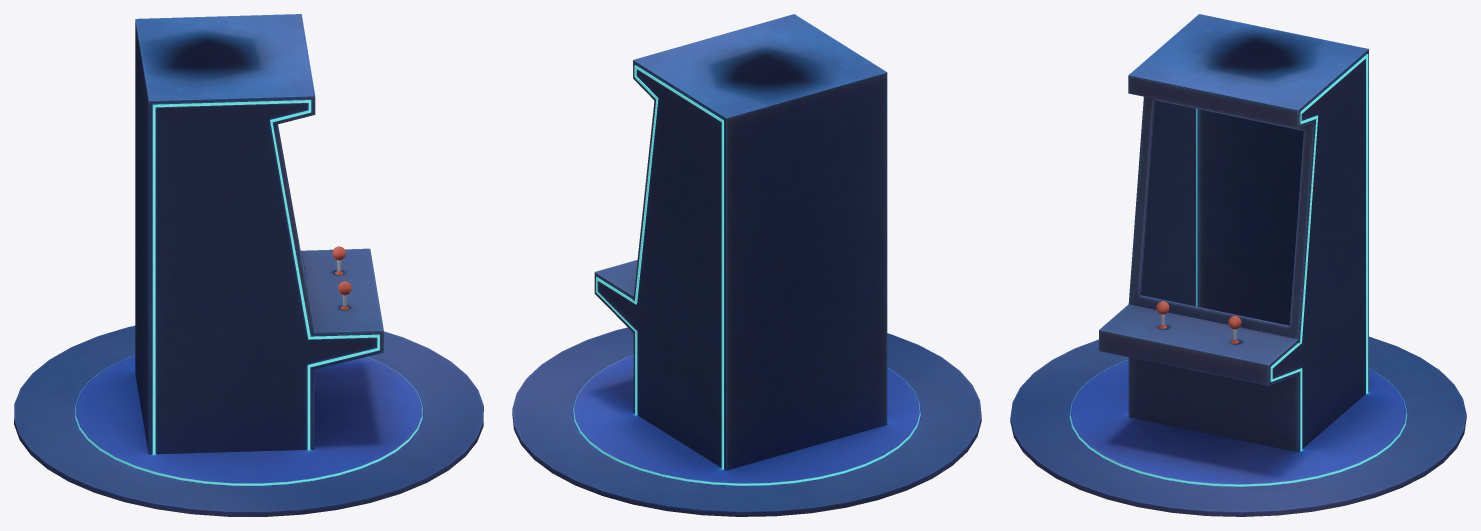
File: Game Station.glb
3 views of the same model, side by side, from view 1: azimuth 30°, elevation 25°; view 2: azimuth 150°, elevation 25°; view 3: azimuth 270°, elevation 25° (orthographic). The views are drawn at different scales.
Visible parts, largest first — view 1: Game Station_Export; view 2: Game Station_Export; view 3: Game Station_Export.
Boxes of the visible parts, bbox=[...] form: Game Station_Export: bbox=[14, 14, 483, 516]; Game Station_Export: bbox=[512, 14, 981, 516]; Game Station_Export: bbox=[1010, 14, 1466, 516].
Bounding box in the file's own units: 4.1 × 3.47 × 4.1.
1 material, 1 textured.
